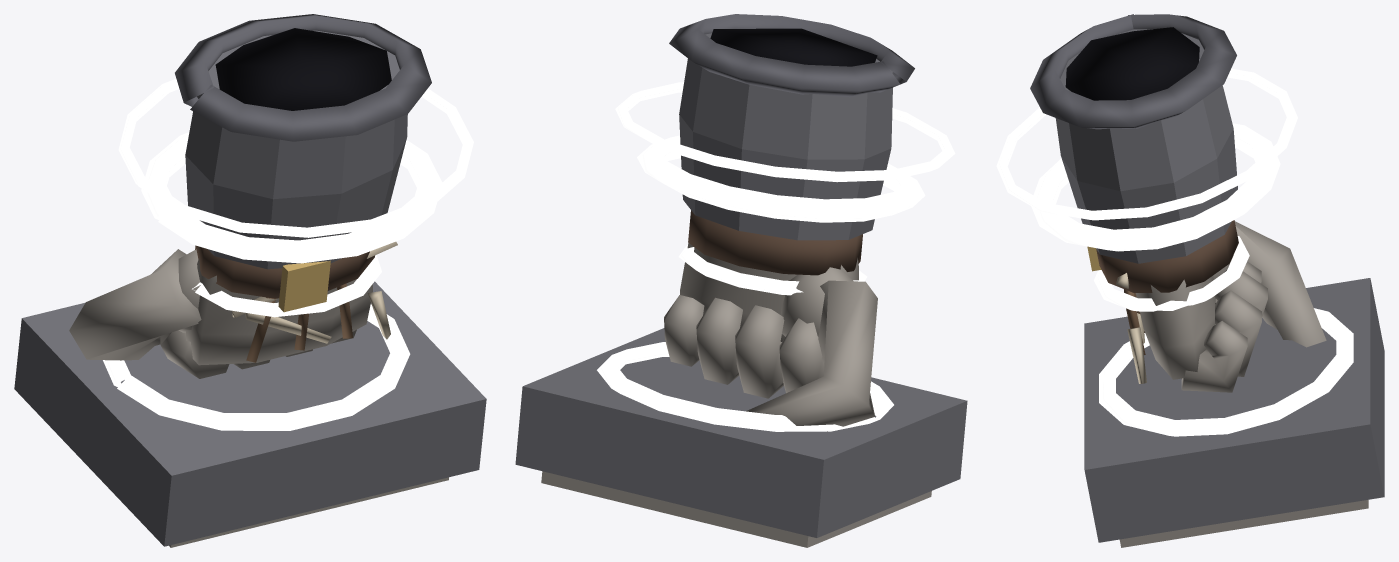
Rendered from gauntlet-masons-fist.glb.
3 renders of one model, left to right at view 1: azimuth 30°, elevation 25°; view 2: azimuth 150°, elevation 25°; view 3: azimuth 270°, elevation 25°, orthographic. The views are drawn at different scales.
Parts seen in each view (by area): view 1: gauntlet-masons-fist; view 2: gauntlet-masons-fist; view 3: gauntlet-masons-fist.
Boxes of the visible parts, x1,y1,x2,y2 form: gauntlet-masons-fist: (14,14,486,547); gauntlet-masons-fist: (515,14,967,547); gauntlet-masons-fist: (996,14,1384,547).
Bounding box in the file's own units: 0.403 × 0.5544 × 0.4452.
